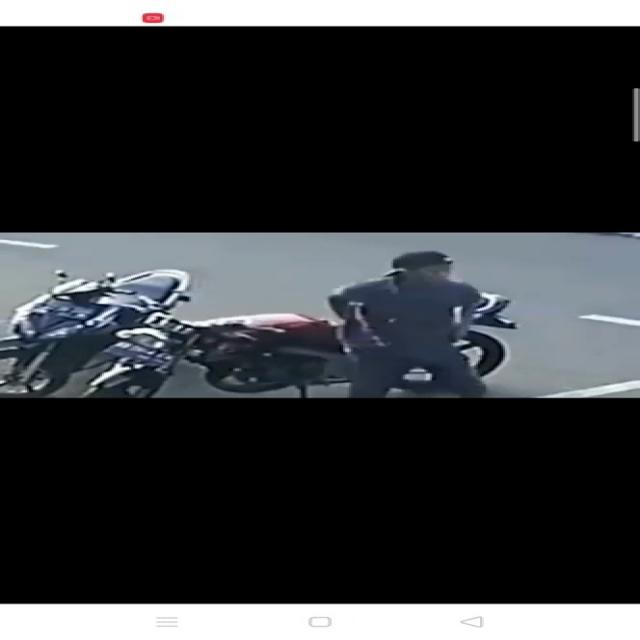pencurian: (94, 252, 513, 402)
